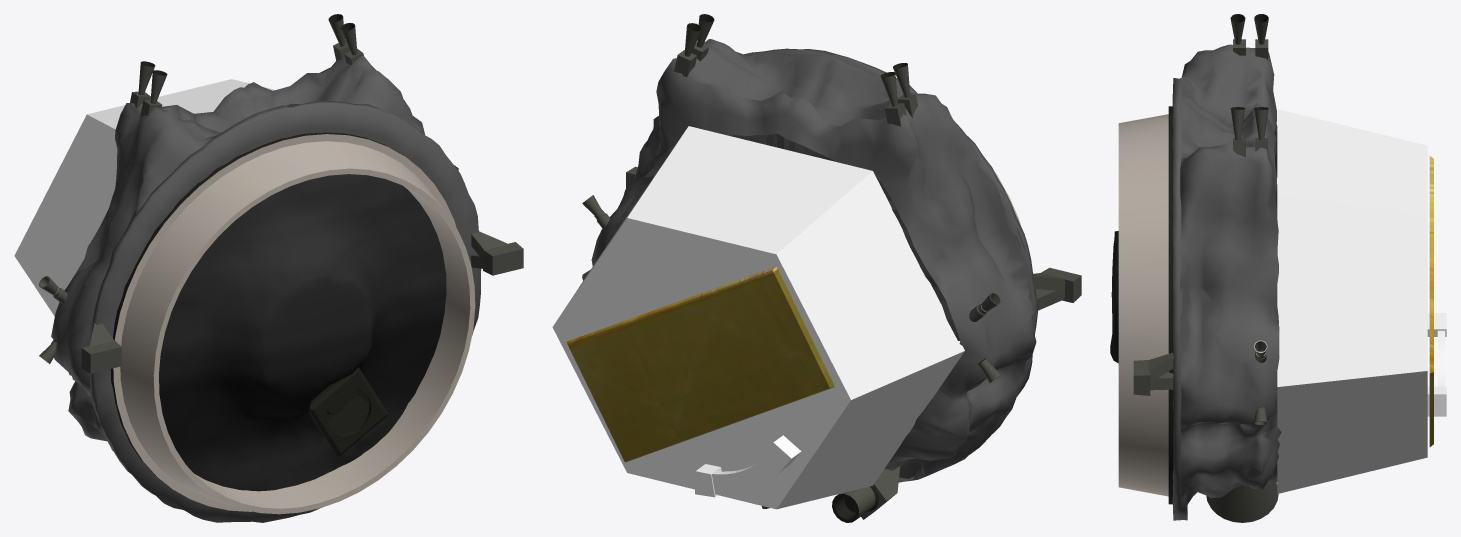
File: deep-impact-epoxi.glb
3 renders of one model, left to right at view 1: azimuth 30°, elevation 25°; view 2: azimuth 150°, elevation 25°; view 3: azimuth 270°, elevation 25°, orthographic. The views are drawn at different scales.
Visible parts, largest first — view 1: foil_silver_I, tex_01_I, black_krinkle_I, aluminum_I; view 2: aluminum_I, black_krinkle_I, tex_01_I; view 3: aluminum_I, black_krinkle_I, tex_01_I, foil_silver_I.
Boxes of the visible parts, <box> form: foil_silver_I: <box>159,174,446,491</box>; tex_01_I: <box>39,14,523,514</box>; black_krinkle_I: <box>51,55,481,522</box>; aluminum_I: <box>14,79,275,316</box>; aluminum_I: <box>552,126,964,509</box>; black_krinkle_I: <box>591,39,1037,482</box>; tex_01_I: <box>566,14,1081,522</box>; aluminum_I: <box>1277,109,1446,493</box>; black_krinkle_I: <box>1172,44,1281,520</box>; tex_01_I: <box>1118,14,1433,522</box>; foil_silver_I: <box>1110,231,1118,363</box>.
Bounding box in the file's own units: 1.25 × 1.25 × 0.8549.
4 materials, 2 textured.
